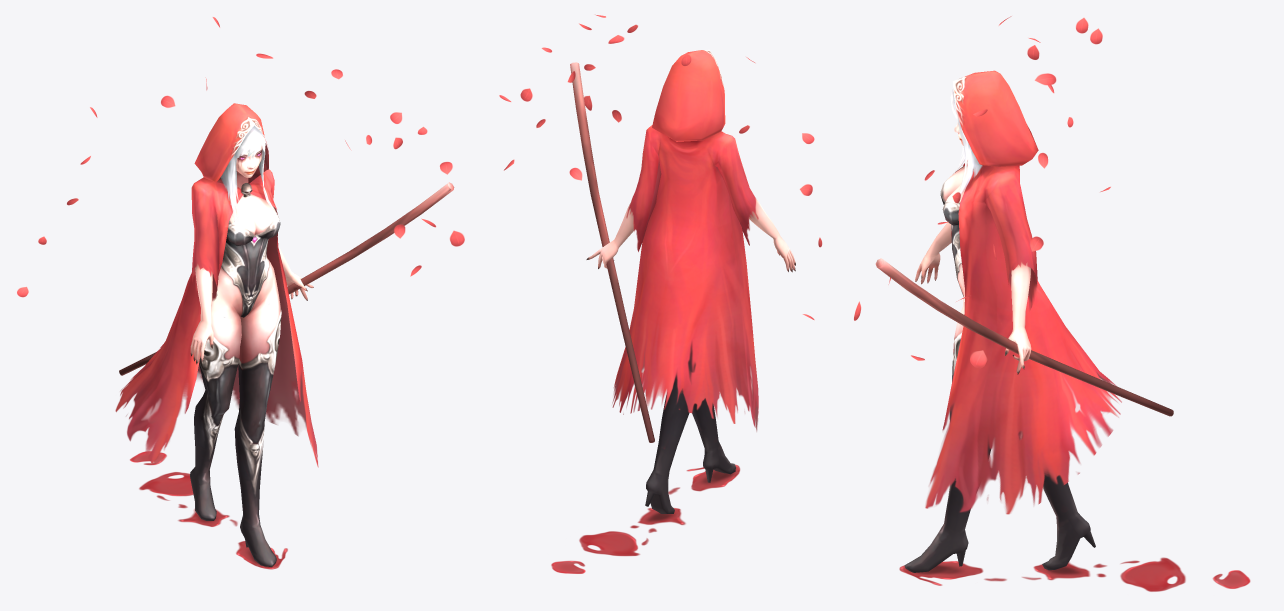
The picture shows the model from 3 angles, left to right: view 1: azimuth 30°, elevation 25°; view 2: azimuth 150°, elevation 25°; view 3: azimuth 270°, elevation 25°; orthographic projection. The views are drawn at different scales.
Parts seen in each view (by area): view 1: Body, Body.001, Plane, Body.002; view 2: Body.001, Body, Plane; view 3: Body.001, Body, Plane, Body.002.
Boxes of the visible parts, <box> form: Body: <box>119,145,454,566</box>; Body.001: <box>115,103,318,467</box>; Plane: <box>17,17,464,569</box>; Body.002: <box>220,125,274,221</box>; Body.001: <box>612,49,758,431</box>; Body: <box>570,62,795,513</box>; Plane: <box>499,14,822,573</box>; Body.001: <box>925,70,1121,514</box>; Body: <box>875,122,1173,572</box>; Plane: <box>854,16,1250,591</box>; Body.002: <box>950,89,982,194</box>.
Bounding box in the file's own units: 1557 × 1939 × 1305.
4 materials, 4 textured.
